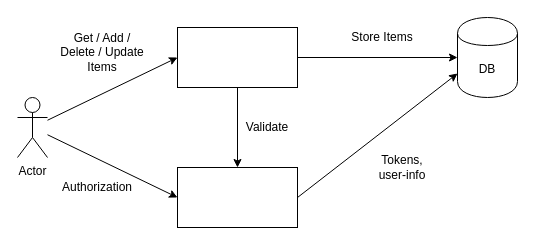
This 535x245 diagram has some shape labels left out. The centre of each missing label's shape, as x and y in pixels:
Auth service: point 237,197
Item-storage service: point 237,57
